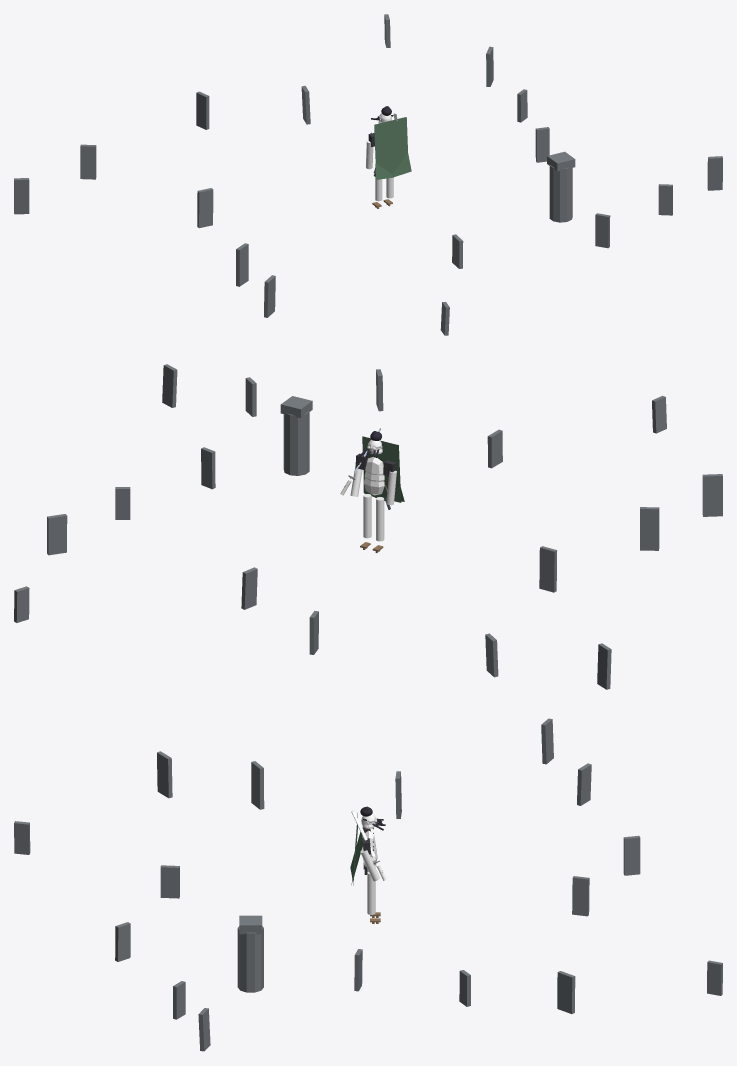
Rendered from ronin_cinematic_v0.3.glb.
3 renders of one model, top to bottom at view 1: azimuth 30°, elevation 25°; view 2: azimuth 150°, elevation 25°; view 3: azimuth 270°, elevation 25°, orthographic. The views are drawn at different scales.
Parts seen in each view (by area): view 1: Cloth_Haori_0, Env_StoneLantern, Env_Gravestone_8, Env_Gravestone_6, Env_Gravestone_7, Env_Gravestone_15, Env_Gravestone_9; view 2: Env_StoneLantern, Env_Gravestone_10, Env_Gravestone_9, Env_Gravestone_2, Env_Gravestone_8, Cloth_Haori_0, Env_Gravestone_4, Env_Gravestone_7, Env_Gravestone_15, Env_Gravestone_0, Env_Gravestone_3, Env_Gravestone_1 (+2 smaller); view 3: Env_StoneLantern, Env_Gravestone_2, Env_Gravestone_4, Env_Gravestone_5, Env_Gravestone_12, Env_Gravestone_10, Env_Gravestone_13, Env_Gravestone_9, Env_Gravestone_6, Env_Gravestone_11, Env_Gravestone_3.
Boxes of the visible parts, x1,y1,x2,y2 form: Cloth_Haori_0: (374,117,407,174); Env_StoneLantern: (549,165,572,222); Env_Gravestone_8: (197,188,213,228); Env_Gravestone_6: (80,144,96,179); Env_Gravestone_7: (14,178,29,214); Env_Gravestone_15: (707,156,722,190); Env_Gravestone_9: (236,243,248,286); Env_StoneLantern: (283,411,309,475); Env_Gravestone_10: (702,474,722,516); Env_Gravestone_9: (640,507,659,550); Env_Gravestone_2: (47,514,67,555); Env_Gravestone_8: (539,546,557,592); Cloth_Haori_0: (362,436,401,502); Env_Gravestone_4: (241,567,257,609); Env_Gravestone_7: (597,643,611,689); Env_Gravestone_15: (162,364,177,407); Env_Gravestone_0: (201,447,215,489); Env_Gravestone_3: (14,586,29,622); Env_Gravestone_1: (115,487,130,519); Env_StoneLantern: (237,926,263,992); Env_Gravestone_2: (557,971,575,1013); Env_Gravestone_4: (572,876,589,916); Env_Gravestone_5: (623,835,640,875); Env_Gravestone_12: (160,865,179,898); Env_Gravestone_10: (157,751,172,798); Env_Gravestone_13: (115,922,130,961); Env_Gravestone_9: (251,761,264,809); Env_Gravestone_6: (577,763,591,805); Env_Gravestone_11: (14,821,30,854); Env_Gravestone_3: (707,960,722,995).
Size of what is drawn, in the model's own units: 10.83 by 1.92 by 10.81.
